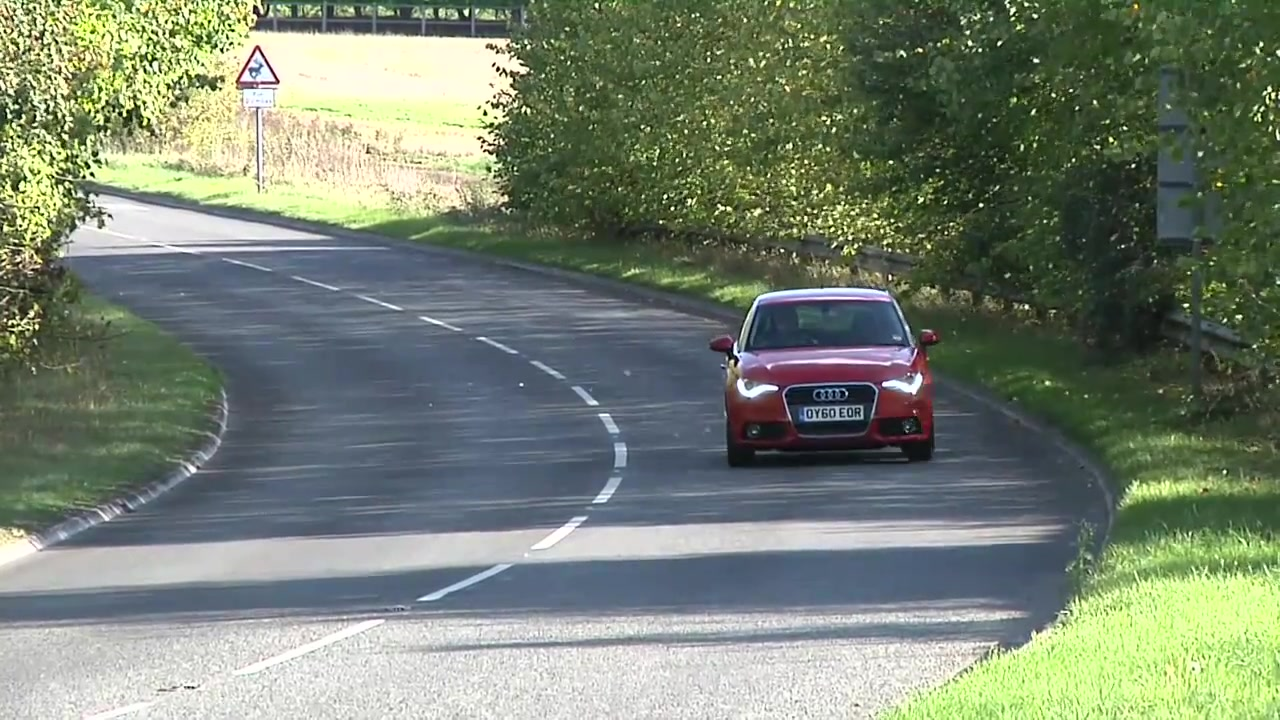car: (709, 285, 946, 466)
